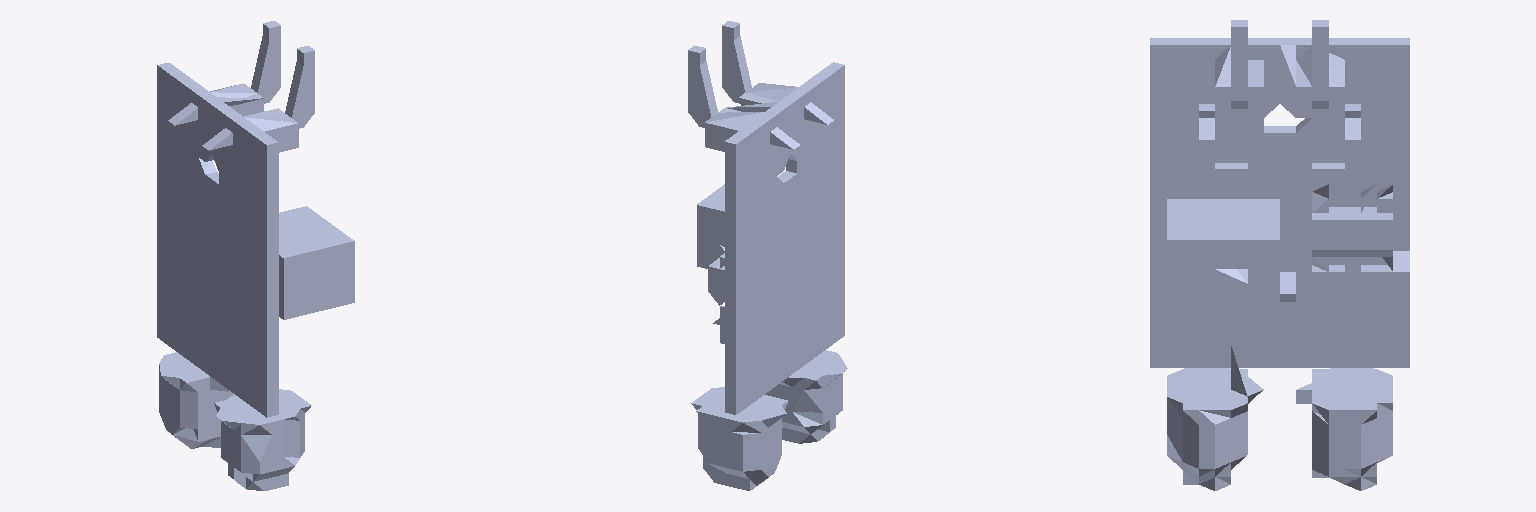
URDF robot description (line_sensor):
<?xml version="1.0" encoding="utf-8"?>
<robot name="line_sensor">
    <pose>0 0 0 0 0 0</pose>


    <link name="base_link">
        <inertial>
            <origin xyz="0.129870310346086 0.0375954725841611 -0.0062043895740128" rpy="0 0 0" />
            <mass value="0.0011672687384539" />
            <inertia ixx="5.47409115450365E-08" ixy="2.09224660226093E-12" ixz="-4.24918240082326E-12" iyy="4.54677720247576E-08" iyz="-9.60984996801466E-14" izz="1.1338202252208E-08" />
        </inertial>
        <visual>
            <origin xyz="0 0 0" rpy="0 0 0" />
            <geometry>
                <mesh filename="package://line_sensor_plugin/models/line_sensor/meshes/sensor.stl" />
            </geometry>
            <material name="">
                <color rgba="0.792156862745098 0.819607843137255 0.933333333333333 1" />
            </material>
        </visual>
        <collision>
            <origin xyz="0 0 0" rpy="0 0 0" />
            <geometry>
                <mesh filename="package://line_sensor_plugin/models/line_sensor/meshes/sensor.stl" />
            </geometry>
        </collision>
    </link>

</robot>

--- What the picture shows (computed from the rendered views, not written in the file) ---
Views: 3 orthographic renders of the robot side by side, from view 1: azimuth 30°, elevation 25°; view 2: azimuth 150°, elevation 25°; view 3: azimuth 270°, elevation 25°.
Robot: line_sensor — 1 links, 0 joints (none); root link base_link; default pose: every joint at zero.
Visible links, largest first — view 1: base_link; view 2: base_link; view 3: base_link.
Boxes of the visible links, x1,y1,x2,y2 form: base_link: (157, 21, 354, 490); base_link: (688, 21, 847, 490); base_link: (1150, 20, 1409, 490).
Size in the robot's own frame: 0.01 by 0.016 by 0.033 metres.
1 mesh visuals loaded from 1 distinct referenced files (1 binary STL).